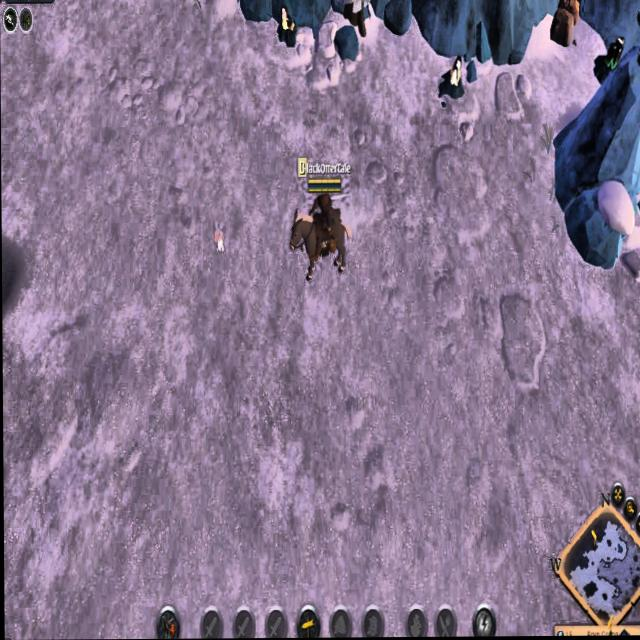copperore: (431, 49, 466, 107), (274, 4, 298, 50)
limestone: (547, 0, 580, 47)
tinore: (593, 31, 625, 83)
